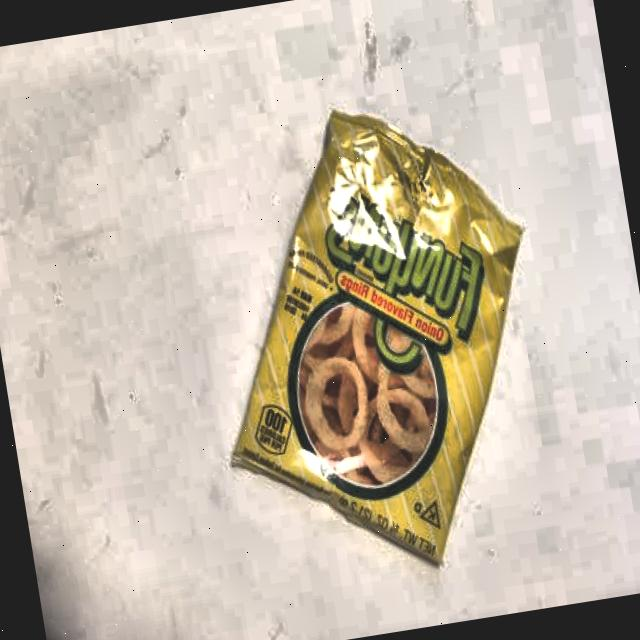trash: (172, 85, 571, 592)
